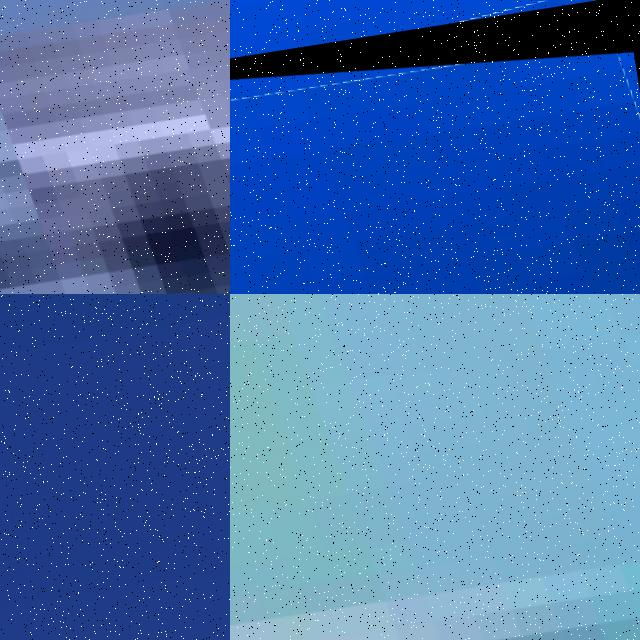drone: (230, 294, 640, 640), (230, 0, 640, 294), (0, 0, 230, 294)
